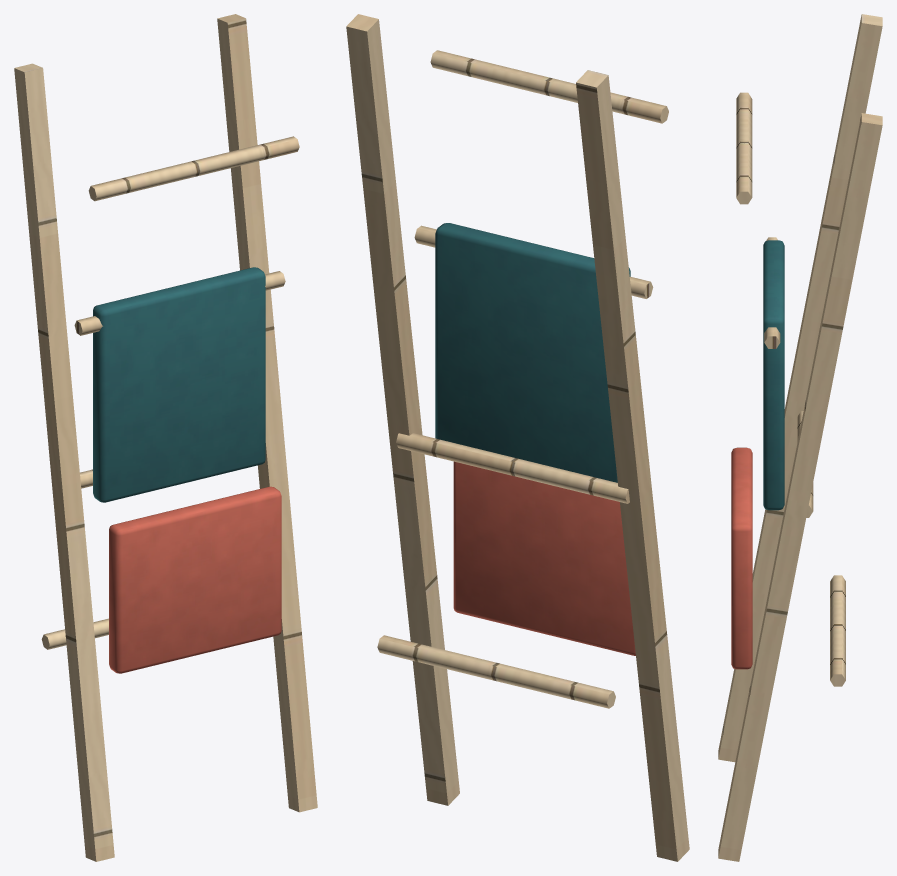
3 views of the same model, side by side, from view 1: azimuth 30°, elevation 25°; view 2: azimuth 150°, elevation 25°; view 3: azimuth 270°, elevation 25° (orthographic). The views are drawn at different scales.
Visible parts, largest first — view 1: Decor_towel_rack; view 2: Decor_towel_rack; view 3: Decor_towel_rack.
Part boxes in pixels (x1,y1,x2,y2): Decor_towel_rack: (14, 14, 317, 861); Decor_towel_rack: (346, 14, 689, 861); Decor_towel_rack: (718, 14, 882, 861).
Bounding box in the file's own units: 0.48 × 1.53 × 0.3086.
Materials: 3 (3 with a texture image).
